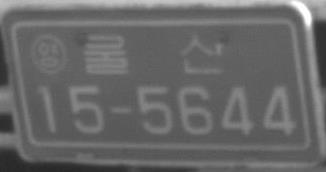-: (107, 104, 135, 116)
1: (32, 83, 60, 134)
4: (261, 85, 297, 137), (220, 85, 254, 137)
5: (136, 83, 173, 136), (67, 84, 105, 135)
6: (177, 84, 215, 135)
영: (30, 33, 67, 76)
울산_D: (81, 32, 226, 76)
